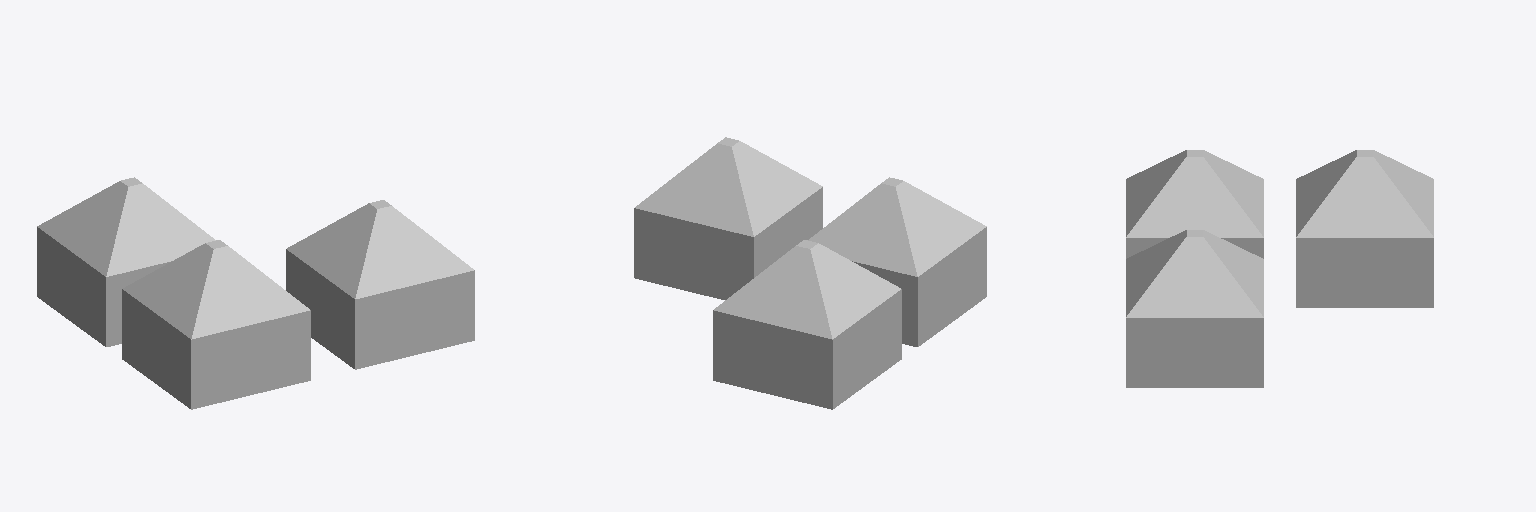
The model's file is 3 House.obj.
The picture shows the model from 3 angles: view 1: azimuth 30°, elevation 25°; view 2: azimuth 150°, elevation 25°; view 3: azimuth 270°, elevation 25°; orthographic projection.
Parts seen in each view (by area): view 1: Cube, Cube.002, Cube.001; view 2: Cube.001, Cube.002, Cube; view 3: Cube.002, Cube.001, Cube.
Part boxes in pixels (x1,y1,x2,y2): Cube: (122,240,310,409); Cube.002: (286,200,474,369); Cube.001: (37,177,215,346); Cube.001: (713,240,901,409); Cube.002: (634,137,822,299); Cube: (808,177,986,346); Cube.002: (1126,230,1263,387); Cube.001: (1296,150,1433,307); Cube: (1126,150,1263,258).
Bounding box in the file's own units: 4.73 × 2 × 4.46.